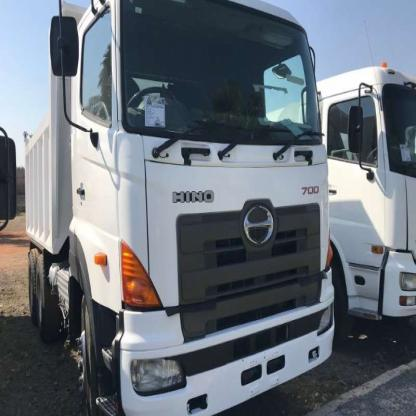dump_truck: (14, 1, 335, 415), (334, 54, 416, 349)
